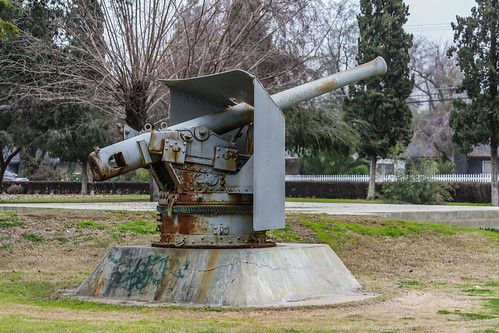tree: (358, 1, 416, 170), (438, 1, 499, 158)
vegetation: (1, 11, 322, 193)
weapon: (64, 40, 392, 281)
